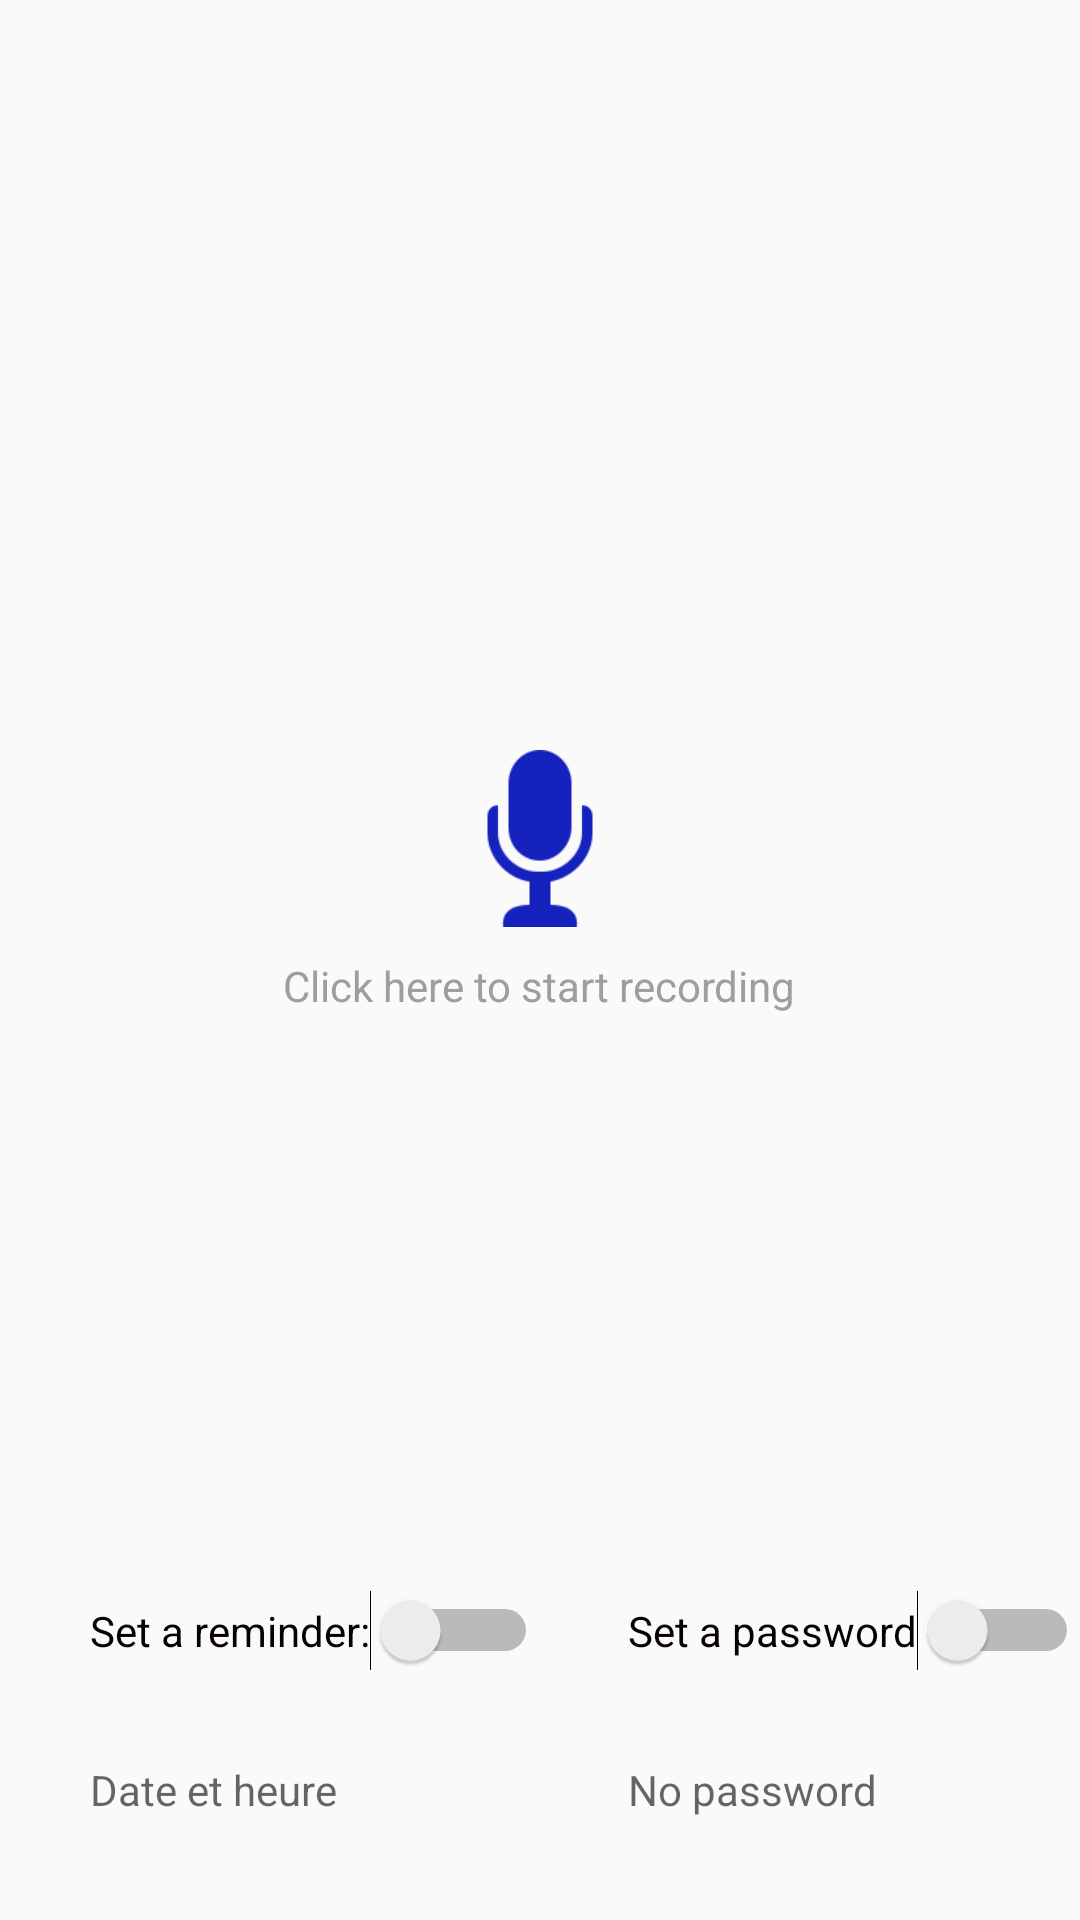

Named icons in this screenshot (1080x1920) and their bounding boxes, (left=x1, top=y1, right=x2, bottom=y2):
mic: (left=487, top=750, right=593, bottom=927)
